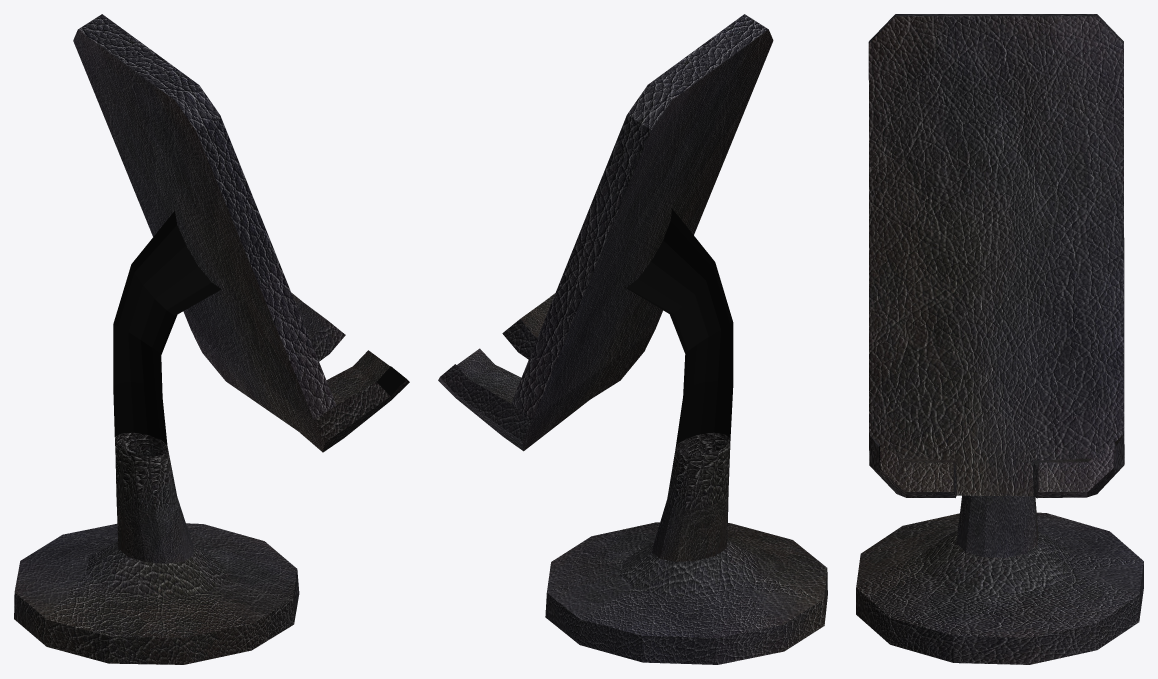
The model's file is stand.glb.
The picture shows the model from 3 angles, left to right: view 1: azimuth 30°, elevation 25°; view 2: azimuth 150°, elevation 25°; view 3: azimuth 270°, elevation 25°; orthographic projection. The views are drawn at different scales.
Parts seen in each view (by area): view 1: Plane; view 2: Plane; view 3: Plane.
Boxes of the visible parts, x1=… form: Plane: x1=14, y1=14, x2=409, y2=664; Plane: x1=438, y1=14, x2=827, y2=664; Plane: x1=856, y1=14, x2=1143, y2=664.
Bounding box in the file's own units: 0.8112 × 1.31 × 0.5862.
2 materials, 1 textured.
